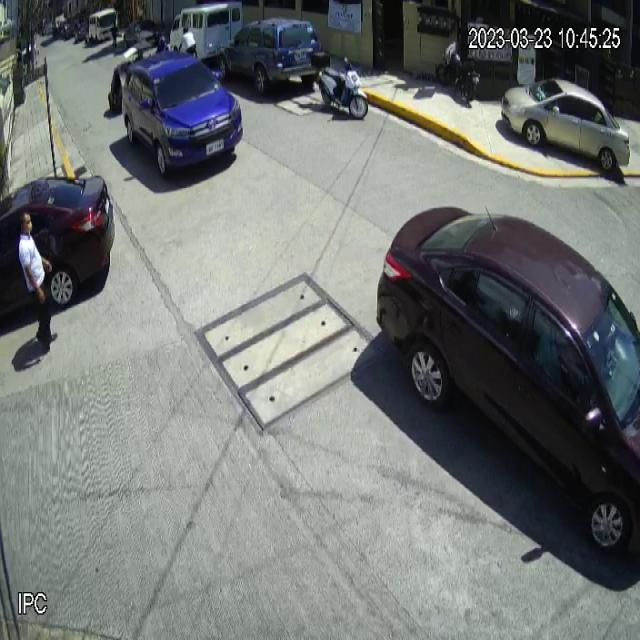Car: (375, 205, 640, 560), (0, 174, 115, 324), (123, 50, 245, 178), (500, 78, 630, 174), (218, 17, 324, 99)
Motorcycle: (312, 48, 369, 120)
Van: (170, 1, 245, 67)
